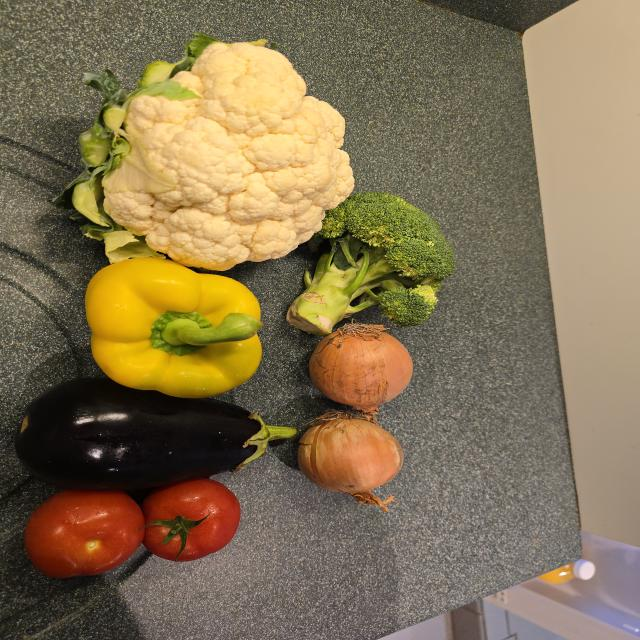Bell Pepper: (85, 258, 264, 398)
Broccoli: (287, 193, 454, 335)
Cauliflower: (54, 34, 354, 270)
Eggplant: (16, 377, 298, 492)
Onion: (309, 323, 413, 411), (298, 411, 403, 496)
Tomato: (25, 490, 145, 577), (142, 482, 240, 561)
